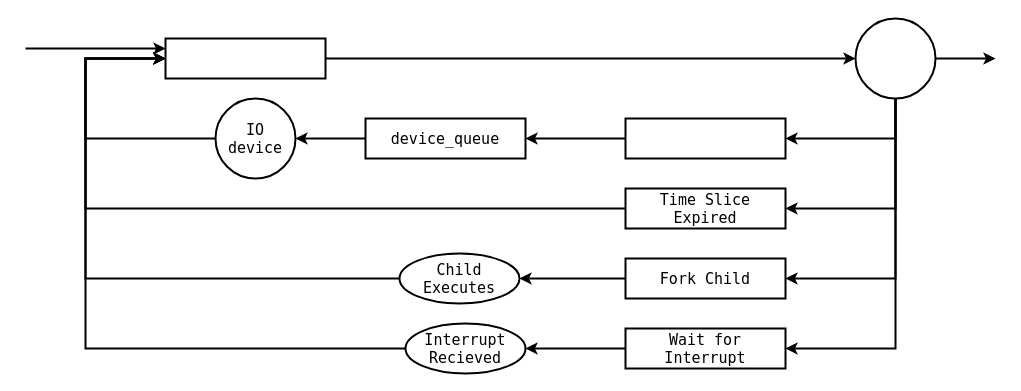
This 1021x391 diagram has some shape labels left out. The box of each missing label's shape, as (x1, y1, x2, y2) in pixels:
CPU: (854, 17, 936, 99)
IO Request: (624, 117, 786, 159)
ready_queue: (164, 37, 326, 79)
